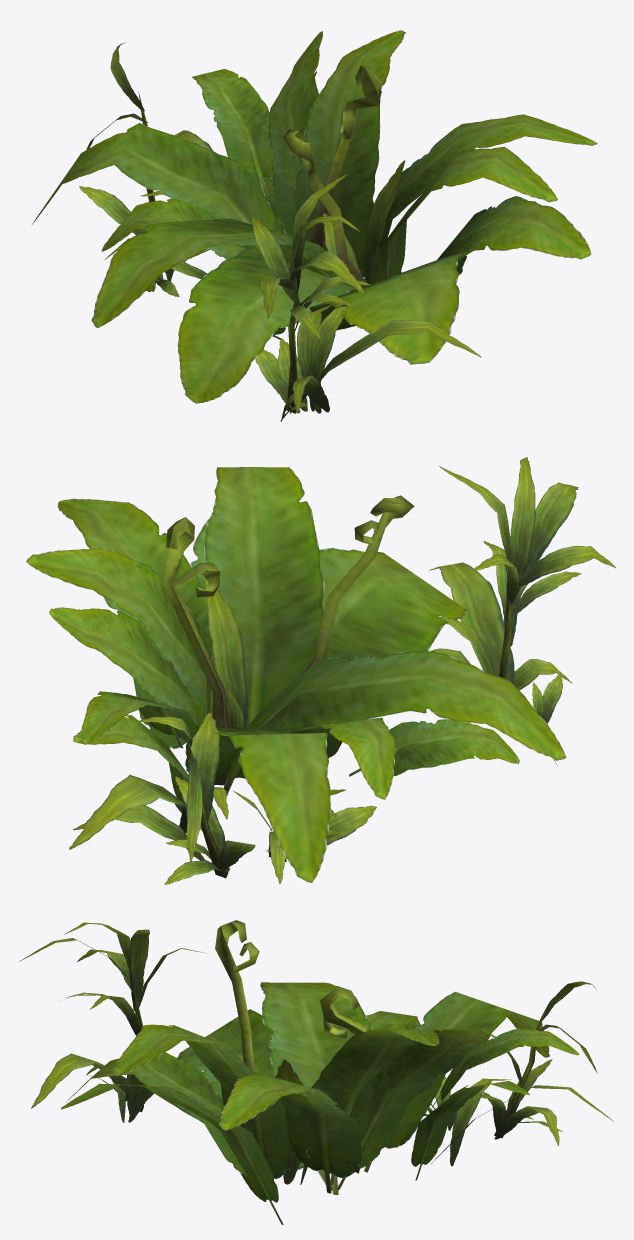
File: Yland2_zb_16 Yland2.FBX
The picture shows the model from 3 angles, top to bottom: view 1: azimuth 30°, elevation 25°; view 2: azimuth 150°, elevation 25°; view 3: azimuth 270°, elevation 25°; orthographic projection. The views are drawn at different scales.
Visible parts, largest first — view 1: Yland2_zb_16 Yland2; view 2: Yland2_zb_16 Yland2; view 3: Yland2_zb_16 Yland2.
Boxes of the visible parts, <box> form: Yland2_zb_16 Yland2: <box>31,30,597,421</box>; Yland2_zb_16 Yland2: <box>26,457,615,884</box>; Yland2_zb_16 Yland2: <box>19,920,614,1224</box>.
Bounding box in the file's own units: 21.25 × 10.39 × 23.47.
